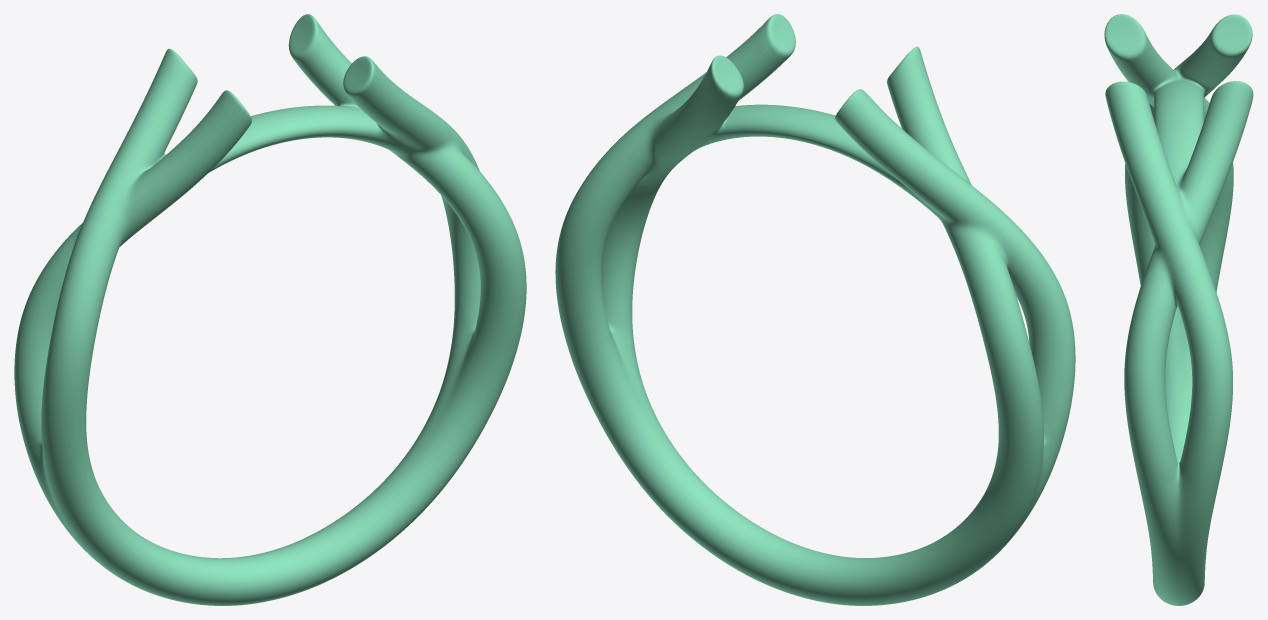
The picture shows the model from 3 angles, left to right: view 1: azimuth 30°, elevation 25°; view 2: azimuth 150°, elevation 25°; view 3: azimuth 270°, elevation 25°; orthographic projection. The views are drawn at different scales.
Visible parts, largest first — view 1: Metal02; view 2: Metal02; view 3: Metal02.
Boxes of the visible parts, x1,y1,x2,y2 form: Metal02: (14,14,526,605); Metal02: (555,14,1075,605); Metal02: (1104,14,1253,605).
Bounding box in the file's own units: 21.06 × 22.73 × 5.75.
